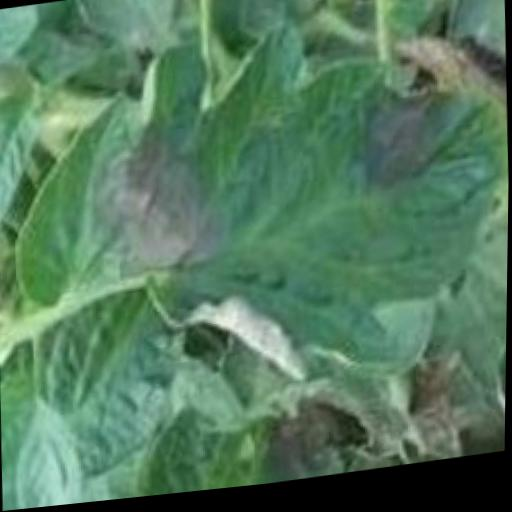Late Blight: (0, 0, 512, 427)
